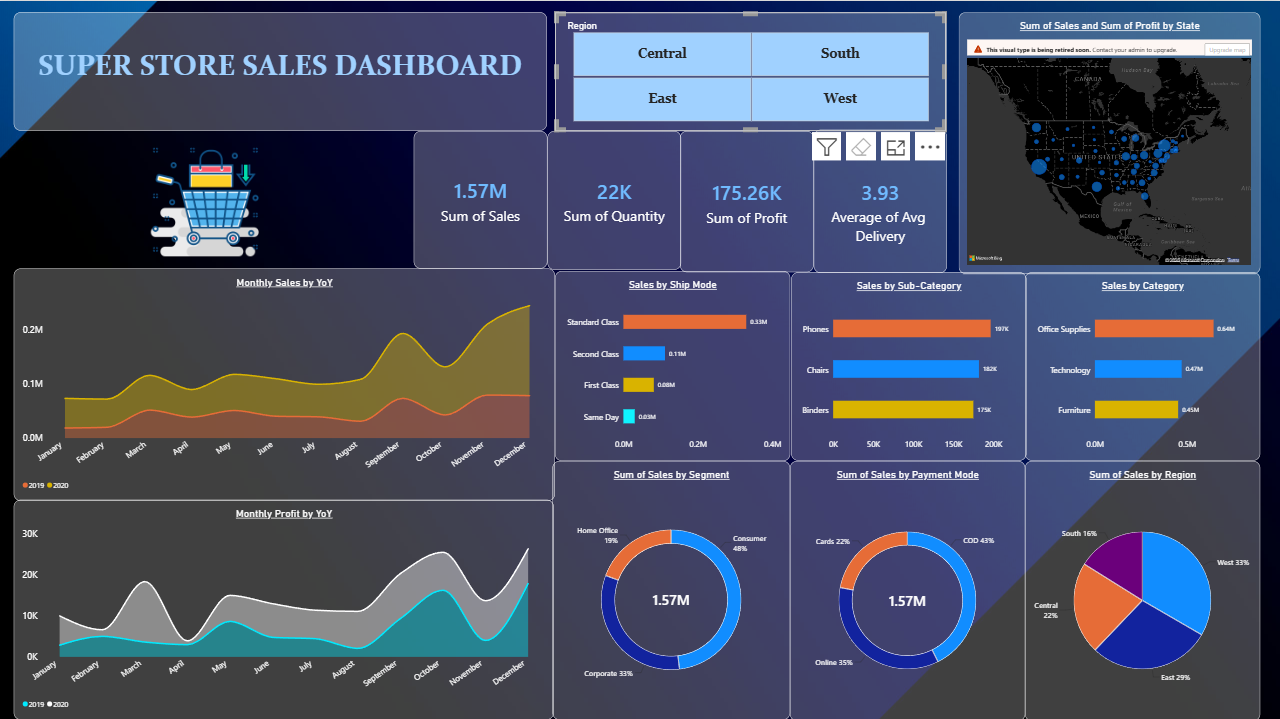

This screenshot's page, from the dashboard's own definition file:
{"tool":"powerbi","page":{"name":"Main Dashboard","canvas":[2560,1440],"ordinal":1},"visuals":[{"type":"clusteredBarChart","title":"Sales by Category","fields":{"Category":["SuperStore_Sales_Dataset (1).Category"],"Y":["Sum(SuperStore_Sales_Dataset (1).Sales)"]},"box":[2050,543.3,470,376.7],"z":0},{"type":"clusteredBarChart","title":"Sales by Sub-Category","fields":{"Category":["SuperStore_Sales_Dataset (1).Sub-Category"],"Y":["Sum(SuperStore_Sales_Dataset (1).Sales)"]},"box":[1583.3,543.3,470,376.7],"z":1000},{"type":"clusteredBarChart","title":"Sales by Ship Mode","fields":{"Category":["SuperStore_Sales_Dataset (1).Ship Mode"],"Y":["Sum(SuperStore_Sales_Dataset (1).Sales)"]},"box":[1110,540,470,380],"z":2000},{"type":"stackedAreaChart","title":"Monthly Sales by YoY","fields":{"Category":["SuperStore_Sales_Dataset (1).Order Date.Variation.Date Hierarchy.Month","SuperStore_Sales_Dataset (1).Order Date.Variation.Date Hierarchy.Day"],"Series":["SuperStore_Sales_Dataset (1).Order Date.Variation.Date Hierarchy.Year"],"Y":["Sum(SuperStore_Sales_Dataset (1).Sales)"]},"box":[27.5,535,1082.5,465],"z":3000},{"type":"stackedAreaChart","title":"Monthly Profit by YoY","fields":{"Category":["SuperStore_Sales_Dataset (1).Order Date.Variation.Date Hierarchy.Month","SuperStore_Sales_Dataset (1).Order Date.Variation.Date Hierarchy.Day"],"Series":["SuperStore_Sales_Dataset (1).Order Date.Variation.Date Hierarchy.Year"],"Y":["Sum(SuperStore_Sales_Dataset (1).Profit)"]},"box":[26.7,996.7,1080,440],"z":4000},{"type":"map","fields":{"Category":["SuperStore_Sales_Dataset (1).State"],"Size":["Sum(SuperStore_Sales_Dataset (1).Sales)"]},"box":[1916.7,23.3,603.3,523.3],"z":5000},{"type":"donutChart","fields":{"Category":["SuperStore_Sales_Dataset (1).Segment"],"Y":["Sum(SuperStore_Sales_Dataset (1).Sales)"]},"box":[1105,920,475,517.5],"z":6000},{"type":"donutChart","fields":{"Category":["SuperStore_Sales_Dataset (1).Payment Mode"],"Y":["Sum(SuperStore_Sales_Dataset (1).Sales)"]},"box":[1580,920,470,520],"z":7000},{"type":"pieChart","fields":{"Category":["SuperStore_Sales_Dataset (1).Region"],"Y":["Sum(SuperStore_Sales_Dataset (1).Sales)"]},"box":[2050,920,470,520],"z":8000},{"type":"slicer","fields":{"Values":["SuperStore_Sales_Dataset (1).Region"]},"box":[1110,23.3,783.3,236.7],"z":9000},{"type":"textbox","box":[26.7,23.3,1066.7,236.7],"z":10000},{"type":"card","fields":{"Values":["Sum(SuperStore_Sales_Dataset (1).Sales)"]},"box":[827.5,260,267.5,275],"z":11000},{"type":"card","fields":{"Values":["Sum(SuperStore_Sales_Dataset (1).Quantity)"]},"box":[1095,260,267.5,277.5],"z":12000},{"type":"card","fields":{"Values":["Sum(SuperStore_Sales_Dataset (1).Profit)"]},"box":[1360,260,267.5,282.5],"z":13000},{"type":"card","fields":{"Values":["Avg(SuperStore_Sales_Dataset (1).Average Delivery)"]},"box":[1626.7,256.7,266.7,286.7],"z":14000},{"type":"image","box":[26.7,286.7,763.3,223.3],"z":15000}]}

Visuals, with their boxes in screenshot pixels (x1, y1, x2, y2), scaled from the page's 2560x1440 canvas onto the 1280x719 screenshot:
"Sales by Category" clusteredBarChart: bbox=(1025, 271, 1260, 459)
"Sales by Sub-Category" clusteredBarChart: bbox=(792, 271, 1027, 459)
"Sales by Ship Mode" clusteredBarChart: bbox=(555, 270, 790, 459)
"Monthly Sales by YoY" stackedAreaChart: bbox=(14, 267, 555, 499)
"Monthly Profit by YoY" stackedAreaChart: bbox=(13, 498, 553, 717)
map - SuperStore_Sales_Dataset (1).State x Sum(SuperStore_Sales_Dataset (1).Sales): bbox=(958, 12, 1260, 273)
donutChart - SuperStore_Sales_Dataset (1).Segment x Sum(SuperStore_Sales_Dataset (1).Sales): bbox=(552, 459, 790, 718)
donutChart - SuperStore_Sales_Dataset (1).Payment Mode x Sum(SuperStore_Sales_Dataset (1).Sales): bbox=(790, 459, 1025, 718)
pieChart - SuperStore_Sales_Dataset (1).Region x Sum(SuperStore_Sales_Dataset (1).Sales): bbox=(1025, 459, 1260, 718)
slicer - SuperStore_Sales_Dataset (1).Region: bbox=(555, 12, 947, 130)
textbox: bbox=(13, 12, 547, 130)
card - Sum(SuperStore_Sales_Dataset (1).Sales): bbox=(414, 130, 548, 267)
card - Sum(SuperStore_Sales_Dataset (1).Quantity): bbox=(548, 130, 681, 268)
card - Sum(SuperStore_Sales_Dataset (1).Profit): bbox=(680, 130, 814, 271)
card - Avg(SuperStore_Sales_Dataset (1).Average Delivery): bbox=(813, 128, 947, 271)
image: bbox=(13, 143, 395, 255)
